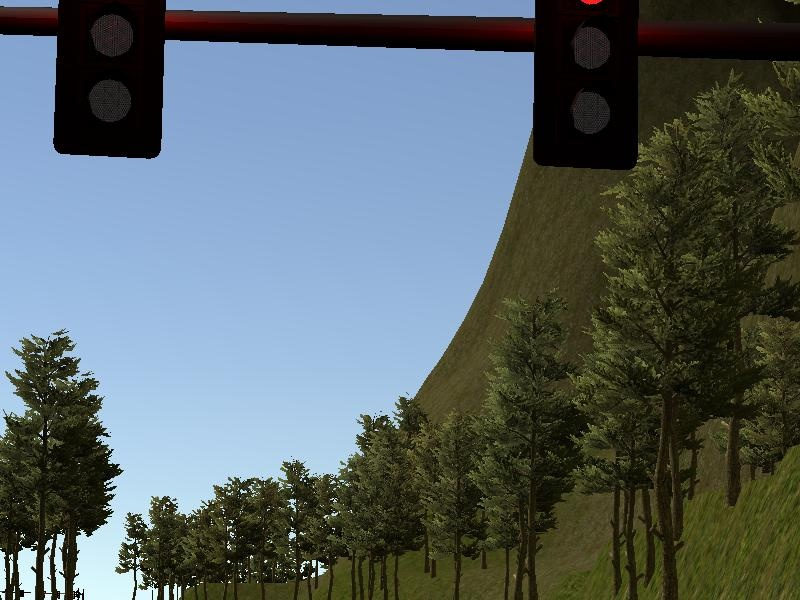Red: (525, 1, 647, 173)
